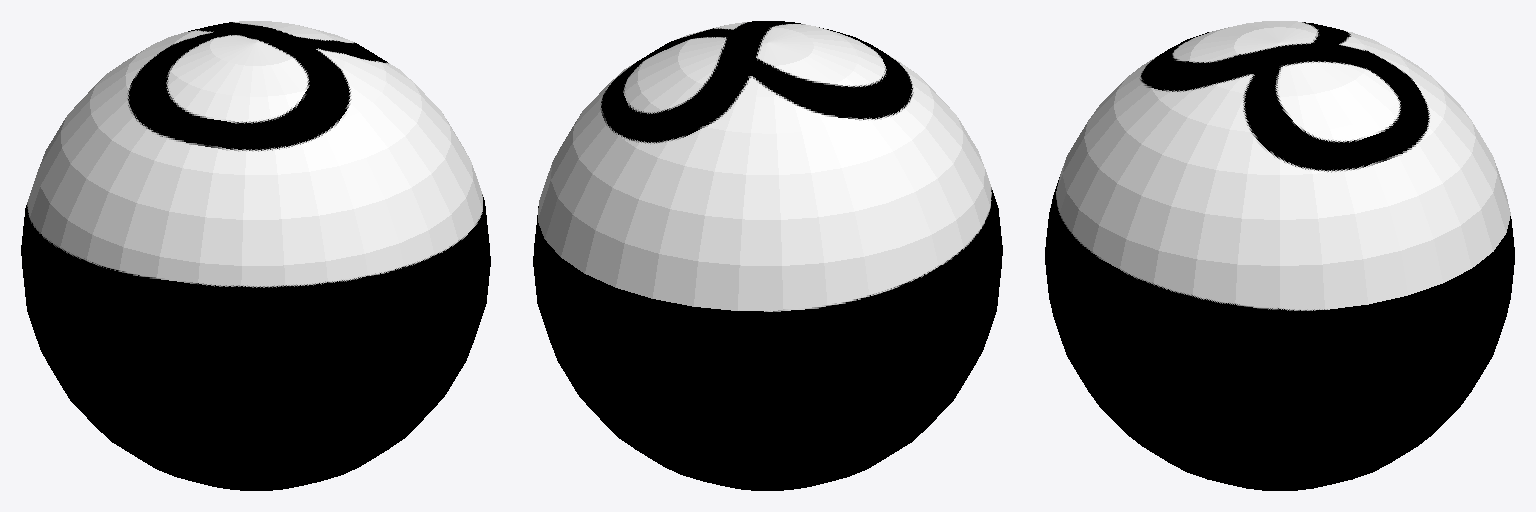
The picture shows the model from 3 angles: view 1: azimuth 30°, elevation 25°; view 2: azimuth 150°, elevation 25°; view 3: azimuth 270°, elevation 25°; orthographic projection.
Visible parts, largest first — view 1: Sphere; view 2: Sphere; view 3: Sphere.
Boxes of the visible parts, x1,y1,x2,y2 form: Sphere: [21, 21, 490, 490]; Sphere: [533, 21, 1002, 490]; Sphere: [1045, 21, 1514, 490].
Size of the model in its own units: 2 by 2 by 2.
Materials: 1 (1 with a texture image).